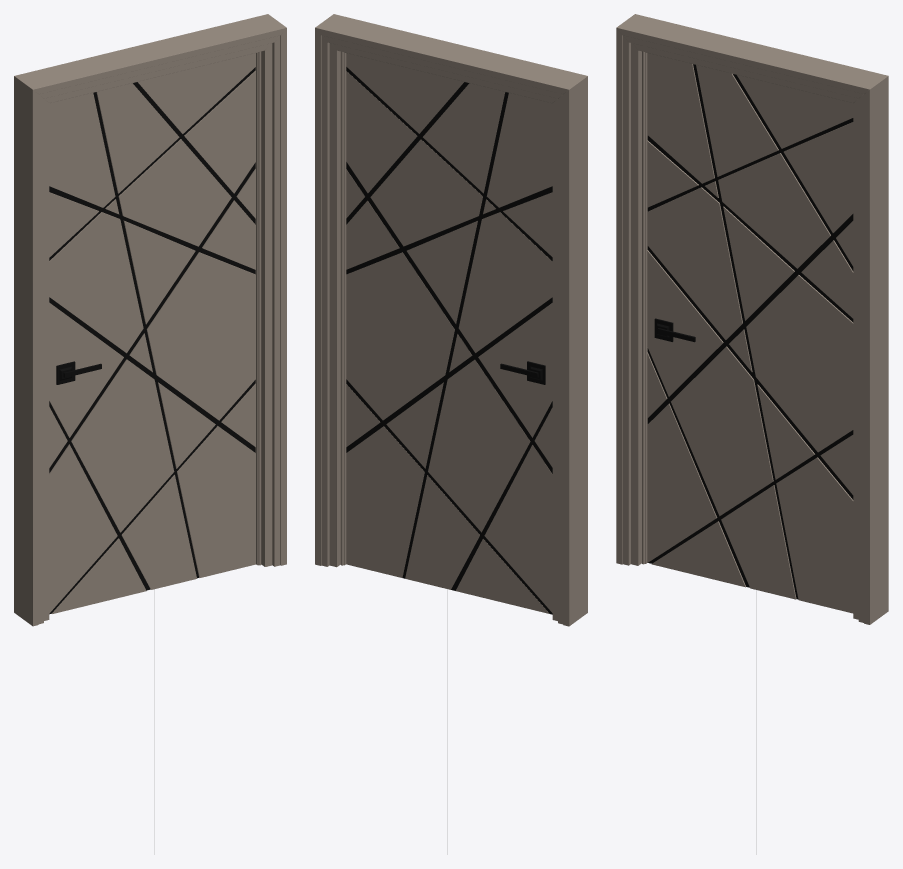
Rendered from door.glb.
The picture shows the model from 3 angles, left to right: view 1: azimuth 30°, elevation 25°; view 2: azimuth 150°, elevation 25°; view 3: azimuth 330°, elevation 25°; orthographic projection.
Visible parts, largest first — view 1: Grey_Wood_Wallpaper_Birds_Nest_Design_002, Grey_Wood_Wallpaper_Birds_Nest_Design_003, Grey_Wood_Wallpaper_Birds_Nest_Design_004, Grey_Wood_Wallpaper_Birds_Nest_Design_001; view 2: Grey_Wood_Wallpaper_Birds_Nest_Design_002, Grey_Wood_Wallpaper_Birds_Nest_Design_003, Grey_Wood_Wallpaper_Birds_Nest_Design_004, Grey_Wood_Wallpaper_Birds_Nest_Design_001; view 3: Grey_Wood_Wallpaper_Birds_Nest_Design_002, Grey_Wood_Wallpaper_Birds_Nest_Design_003, Grey_Wood_Wallpaper_Birds_Nest_Design_004, Grey_Wood_Wallpaper_Birds_Nest_Design_001.
Part boxes in pixels (x1,y1,x2,y2): Grey_Wood_Wallpaper_Birds_Nest_Design_002: [49, 53, 255, 613]; Grey_Wood_Wallpaper_Birds_Nest_Design_003: [14, 14, 286, 626]; Grey_Wood_Wallpaper_Birds_Nest_Design_004: [49, 67, 255, 614]; Grey_Wood_Wallpaper_Birds_Nest_Design_001: [56, 361, 101, 384]; Grey_Wood_Wallpaper_Birds_Nest_Design_002: [346, 53, 552, 613]; Grey_Wood_Wallpaper_Birds_Nest_Design_003: [315, 14, 587, 626]; Grey_Wood_Wallpaper_Birds_Nest_Design_004: [346, 67, 552, 614]; Grey_Wood_Wallpaper_Birds_Nest_Design_001: [500, 361, 545, 384]; Grey_Wood_Wallpaper_Birds_Nest_Design_002: [647, 53, 853, 613]; Grey_Wood_Wallpaper_Birds_Nest_Design_003: [616, 14, 888, 624]; Grey_Wood_Wallpaper_Birds_Nest_Design_004: [647, 64, 853, 599]; Grey_Wood_Wallpaper_Birds_Nest_Design_001: [654, 318, 695, 342].
Bounding box in the file's own units: 1.09 × 3.29 × 0.1396.
